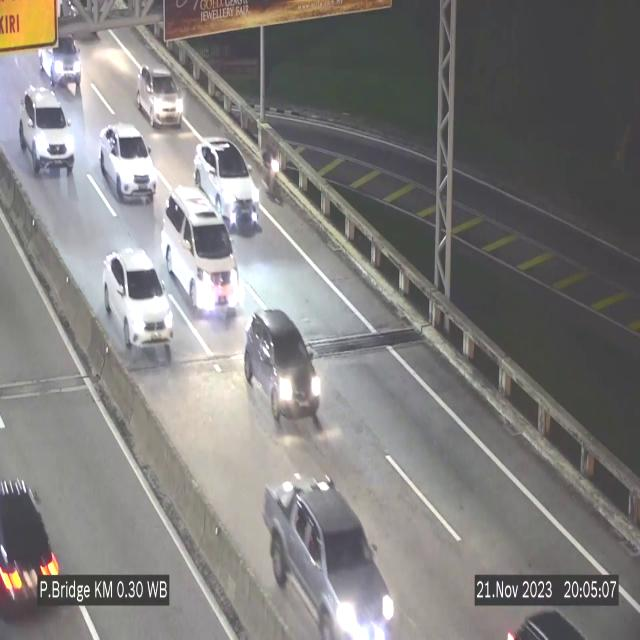Car: (262, 471, 398, 640), (0, 447, 78, 626), (161, 188, 241, 316), (244, 308, 322, 436), (103, 249, 173, 362), (194, 137, 259, 230), (20, 89, 74, 174), (100, 124, 156, 201), (38, 27, 90, 88), (136, 65, 184, 128)
Motorcycle: (256, 132, 290, 212)
